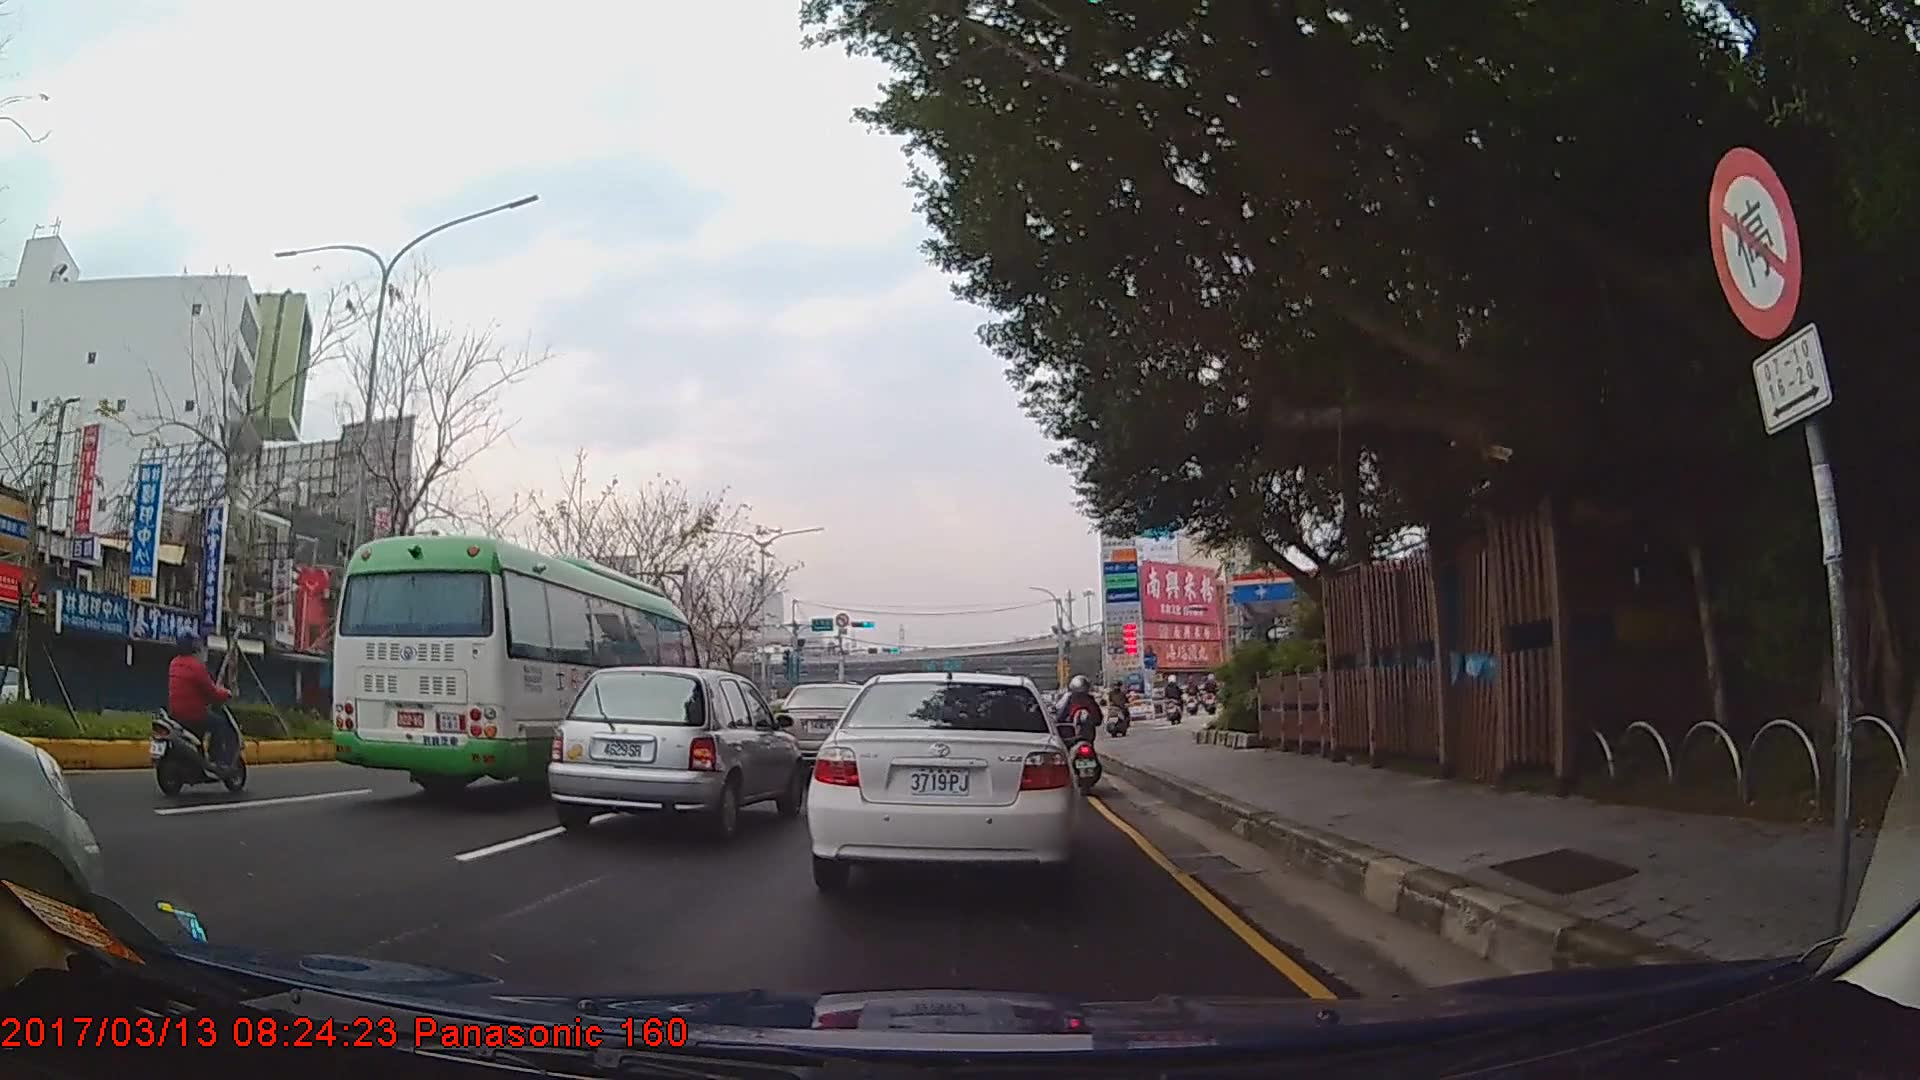rider: (153, 624, 253, 792), (1059, 672, 1103, 798), (1105, 676, 1134, 734), (1164, 674, 1185, 724)
vehicle: (330, 532, 701, 797), (805, 670, 1077, 894), (545, 660, 803, 836), (773, 678, 872, 769), (0, 660, 35, 725)
